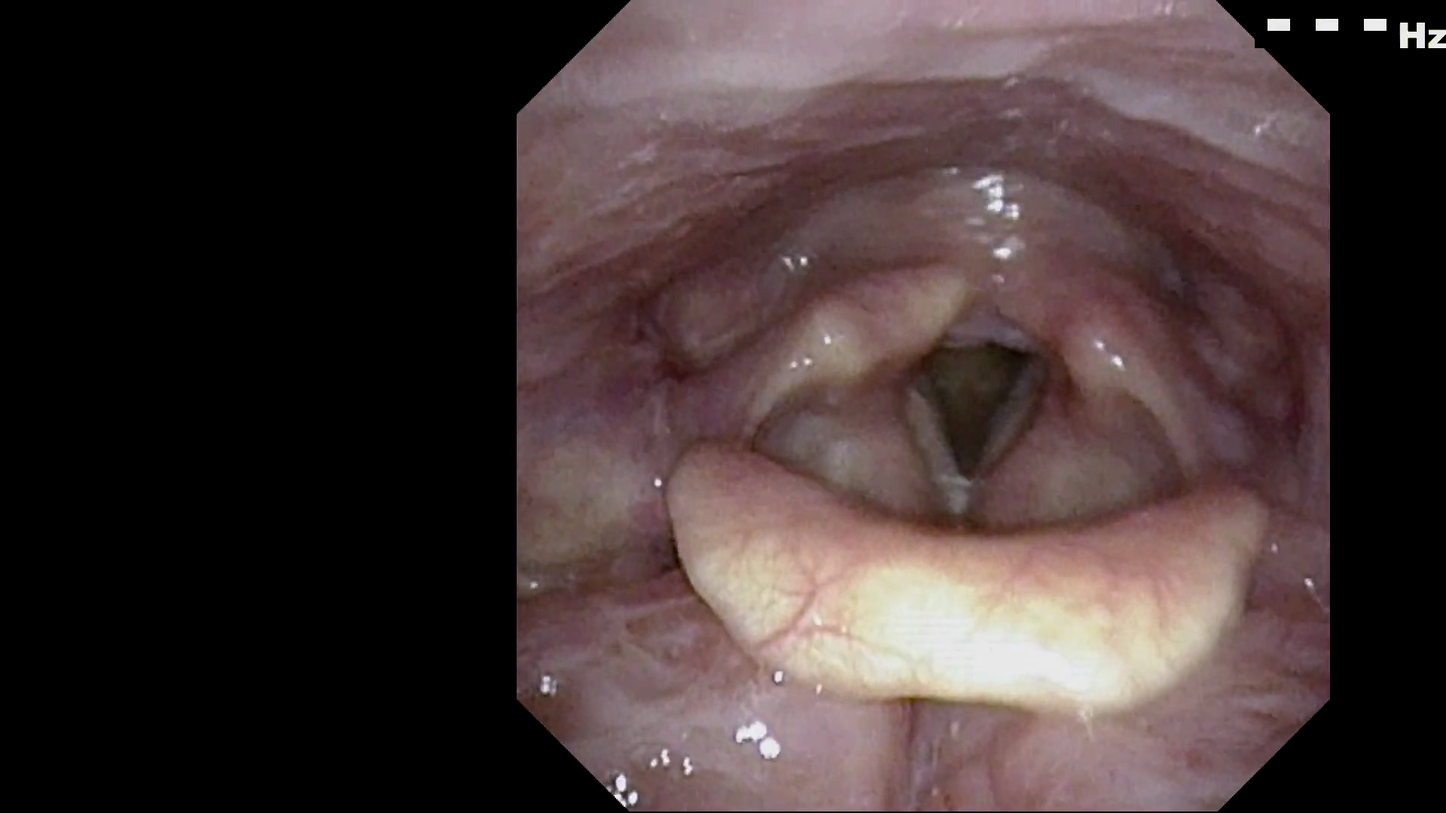epiglottis: (659, 414, 1276, 693)
trachea: (890, 316, 1056, 488)
